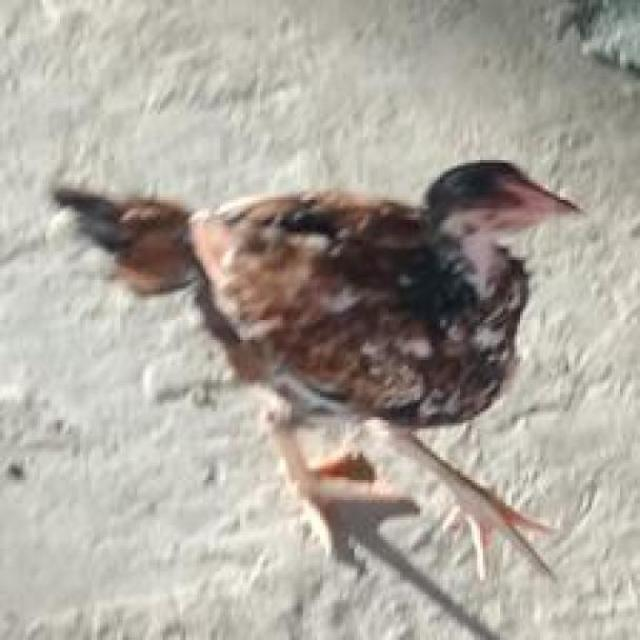Chicken: (7, 141, 606, 598)
